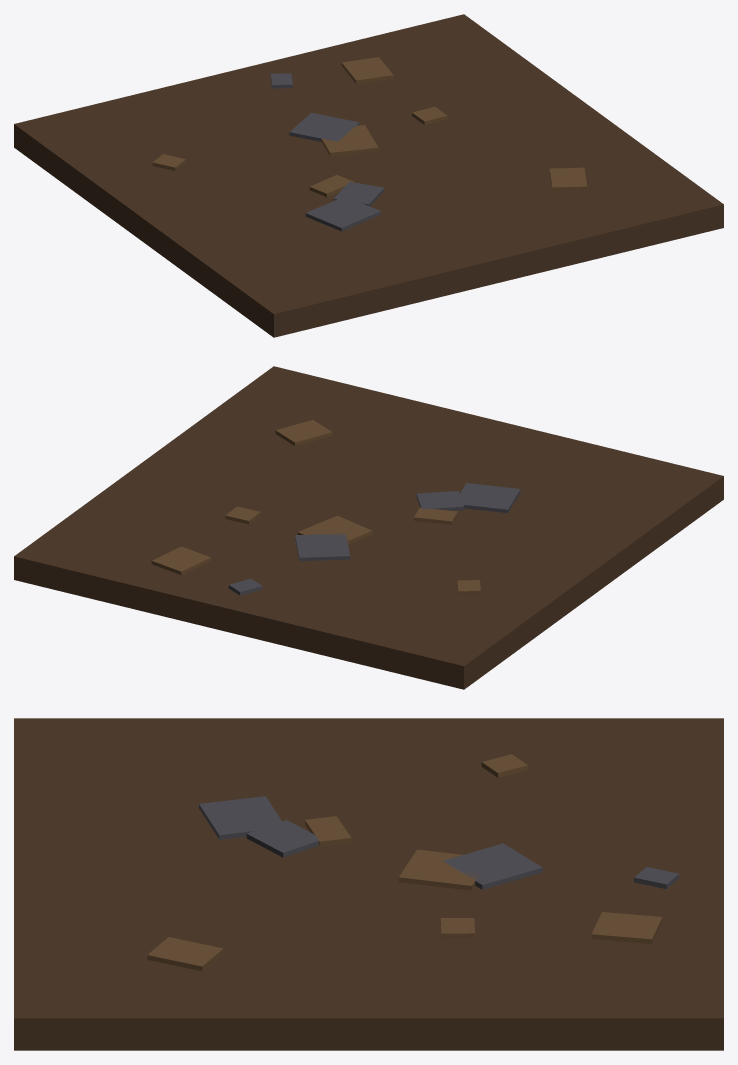
Rendered from floor_4m.glb.
3 views of the same model, one above another, from view 1: azimuth 30°, elevation 25°; view 2: azimuth 150°, elevation 25°; view 3: azimuth 270°, elevation 25° (orthographic). The views are drawn at different scales.
Visible parts, largest first — view 1: floor_4m; view 2: floor_4m; view 3: floor_4m.
Part boxes in pixels (box(x1,y1,x2,y2)): floor_4m: box(14, 14, 723, 337); floor_4m: box(14, 366, 723, 689); floor_4m: box(14, 718, 723, 1050).
Bounding box in the file's own units: 4 × 0.23 × 4.
Materials: 1 (1 with a texture image).
